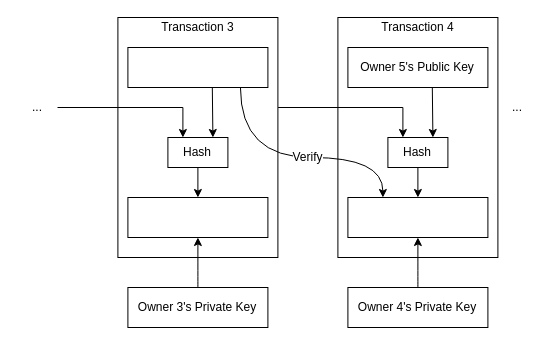
The diagram is 555 pixels wide and 345 high, and some of its shapes have lost their labels. Each missing label, with the centre of its shape:
"Owner 3's Signature" goes at point (197, 217).
"Owner 4's Public Key" goes at point (197, 67).
"Owner 4's Signature" goes at point (417, 217).
